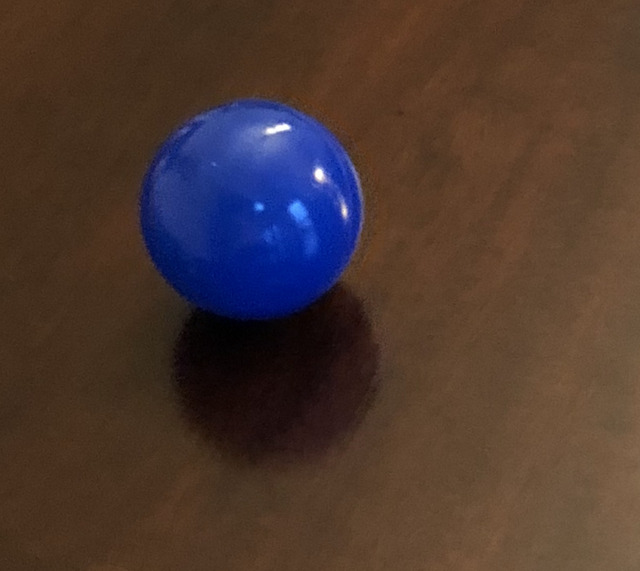Ball: (142, 103, 362, 320)
